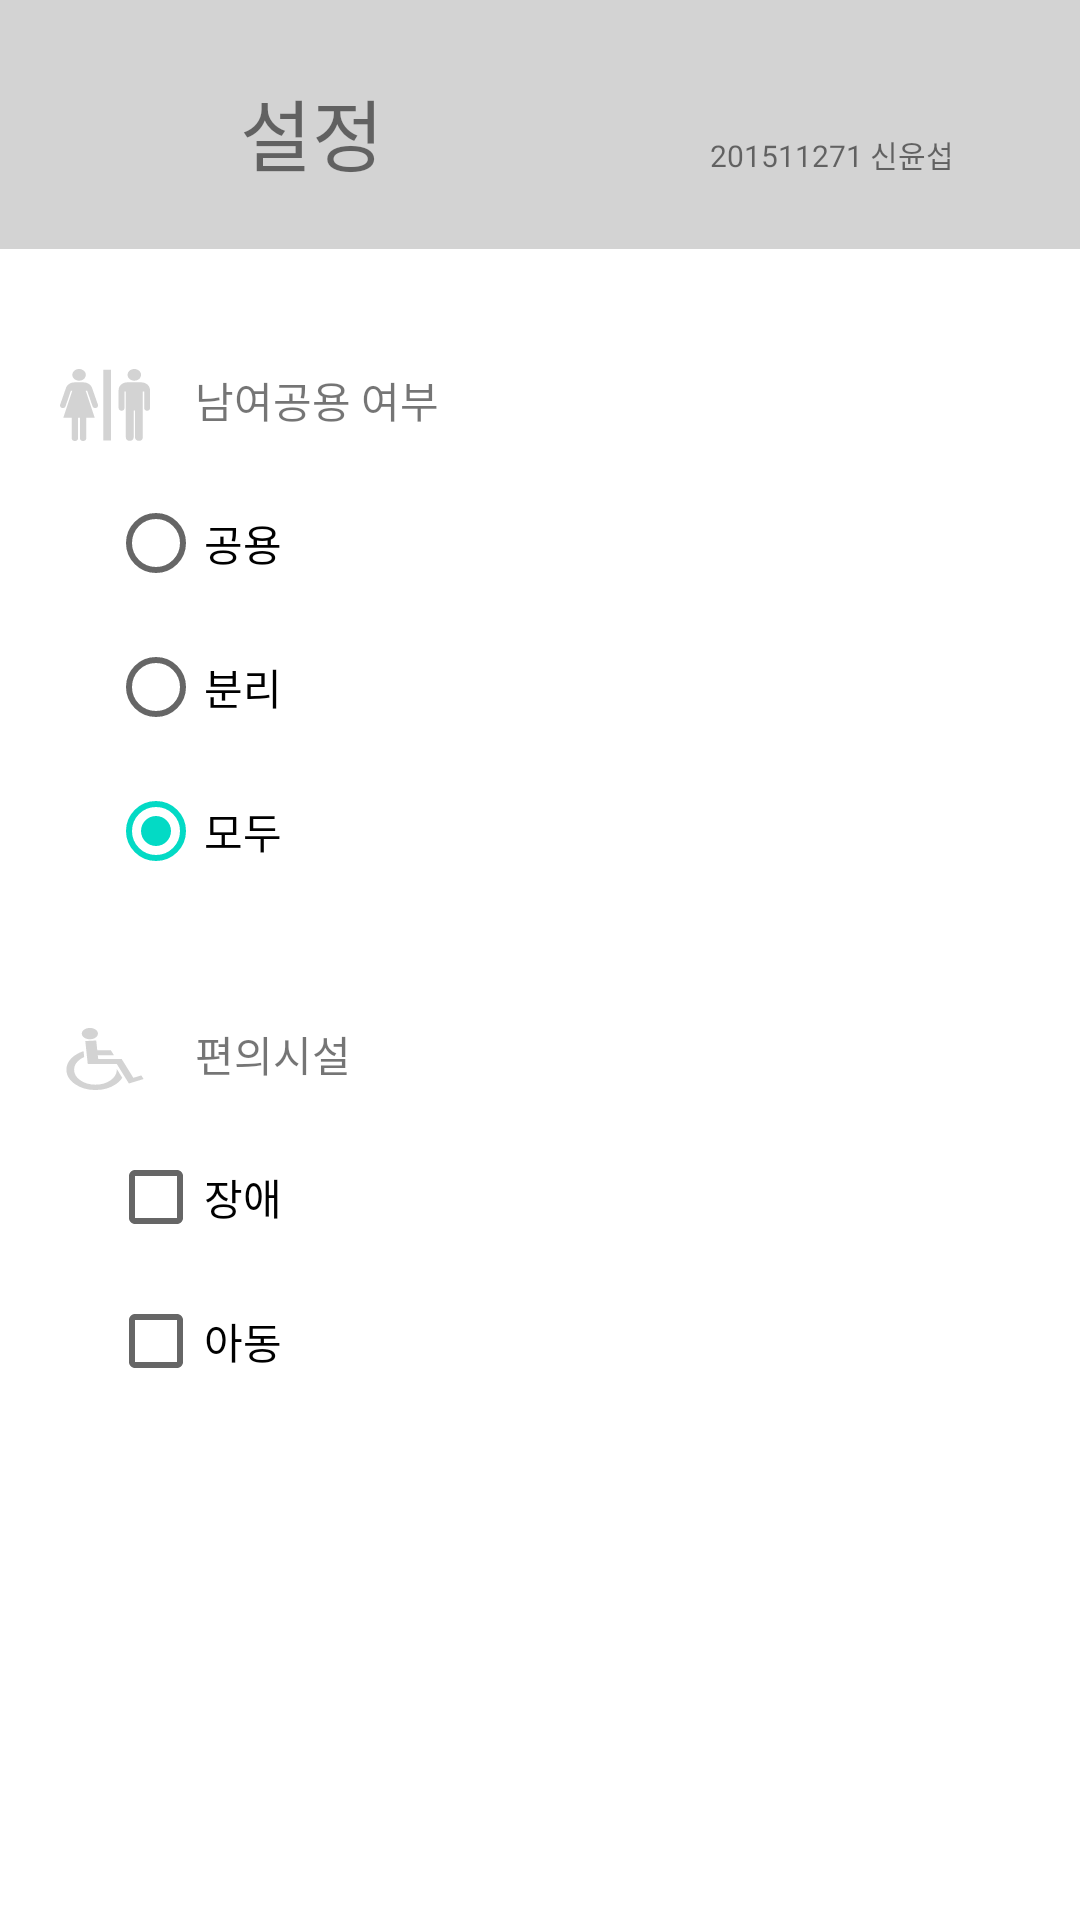

Locate icon controls on the screen. Image size 1080×1920, boxes as [left=x1, top=y1, right=x2, bottom=y2].
toilets drawer: [left=60, top=369, right=150, bottom=441]
